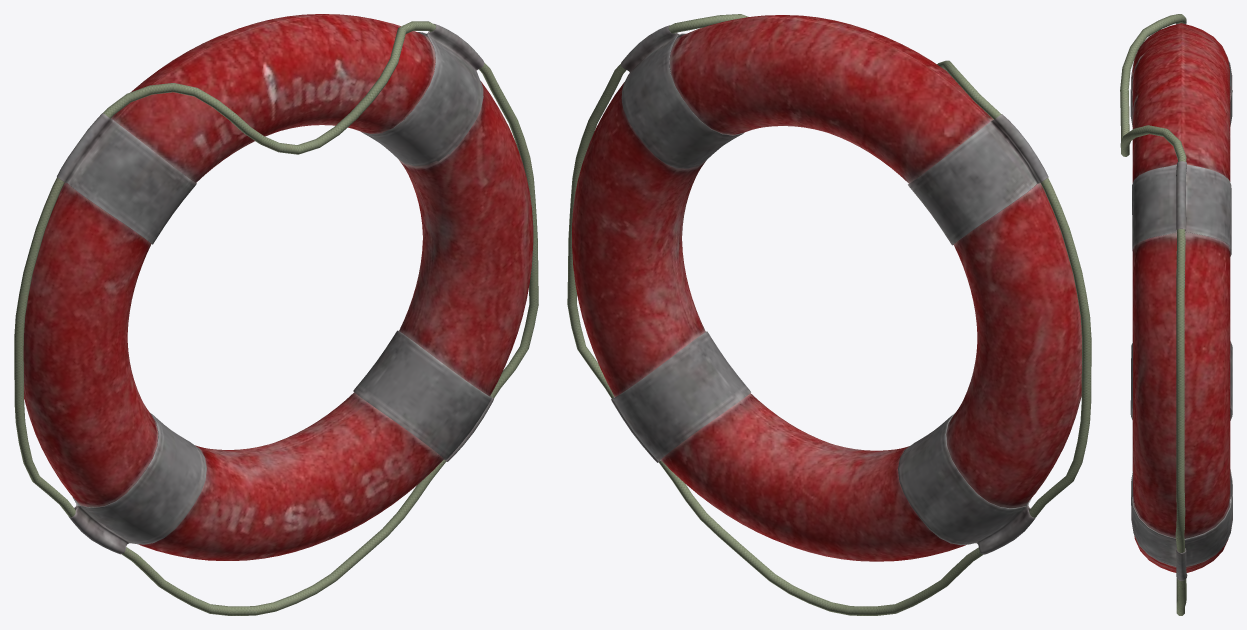
Rendered from lifebuoy.glb.
3 views of the same model, side by side, from view 1: azimuth 30°, elevation 25°; view 2: azimuth 150°, elevation 25°; view 3: azimuth 270°, elevation 25° (orthographic). The views are drawn at different scales.
Visible parts, largest first — view 1: lifebuoy; view 2: lifebuoy; view 3: lifebuoy.
Part boxes in pixels (box(x1,y1,x2,y2)): lifebuoy: box(14, 14, 538, 615); lifebuoy: box(567, 14, 1091, 615); lifebuoy: box(1120, 14, 1232, 615).
Size of the model in its own units: 0.7831 by 0.8412 by 0.1551.
Materials: 1 (1 with a texture image).
